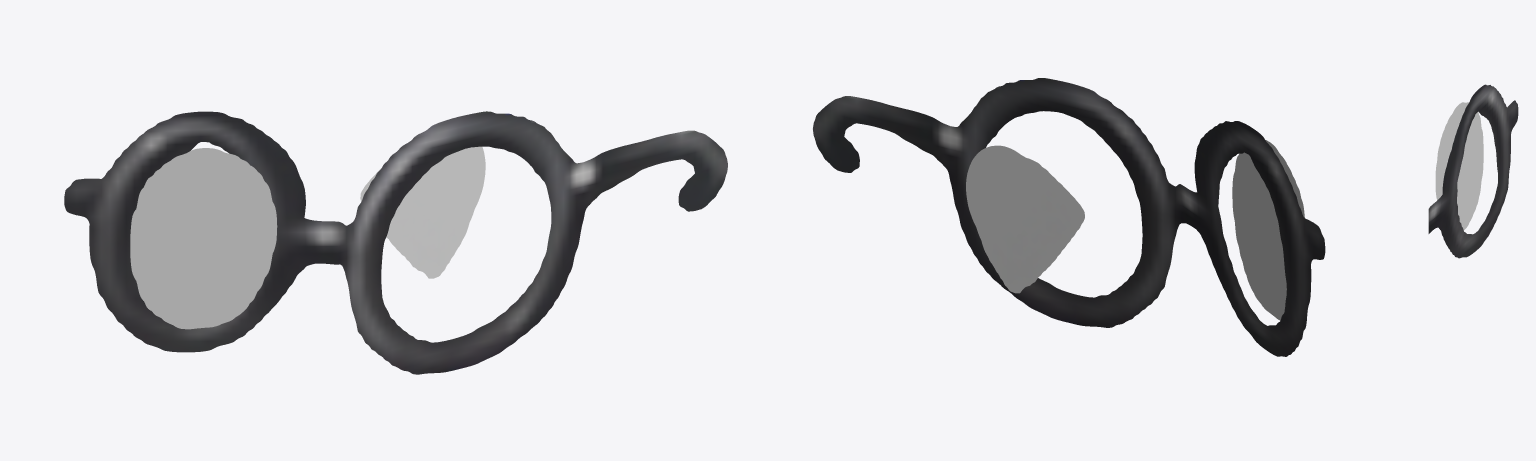
Rendered from Cat Prop Glasses.FBX.
3 views of the same model, side by side, from view 1: azimuth 30°, elevation 25°; view 2: azimuth 150°, elevation 25°; view 3: azimuth 270°, elevation 25° (orthographic). The views are drawn at different scales.
Parts seen in each view (by area): view 1: Cat Prop Glasses, Cat Prop Glasses Shine 2, Cat Prop Glasses Shine 1; view 2: Cat Prop Glasses, Cat Prop Glasses Shine 1, Cat Prop Glasses Shine 2; view 3: Cat Prop Glasses, Cat Prop Glasses Shine 2.
Part boxes in pixels (box(x1,y1,x2,y2)): Cat Prop Glasses: box(64, 111, 727, 374); Cat Prop Glasses Shine 2: box(130, 148, 277, 329); Cat Prop Glasses Shine 1: box(360, 146, 485, 278); Cat Prop Glasses: box(813, 78, 1325, 356); Cat Prop Glasses Shine 1: box(966, 145, 1084, 293); Cat Prop Glasses Shine 2: box(1232, 140, 1304, 320); Cat Prop Glasses: box(1428, 84, 1518, 258); Cat Prop Glasses Shine 2: box(1435, 102, 1483, 229).
Bounding box in the file's own units: 80.63 × 17.81 × 50.33.
